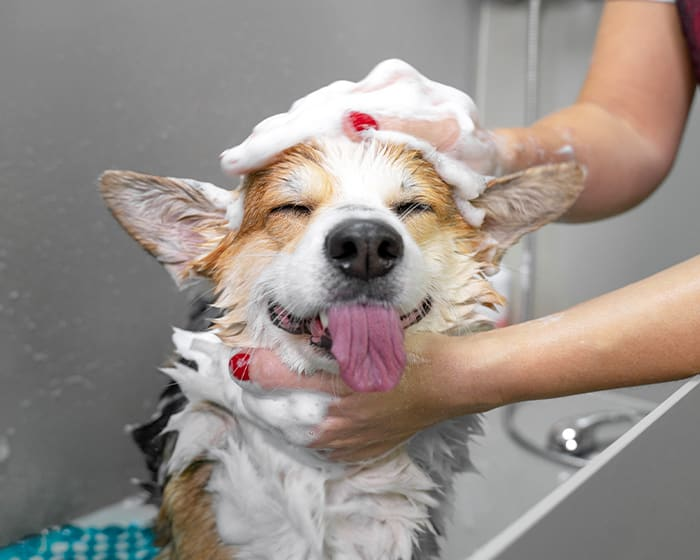pet: (187, 172, 495, 416)
